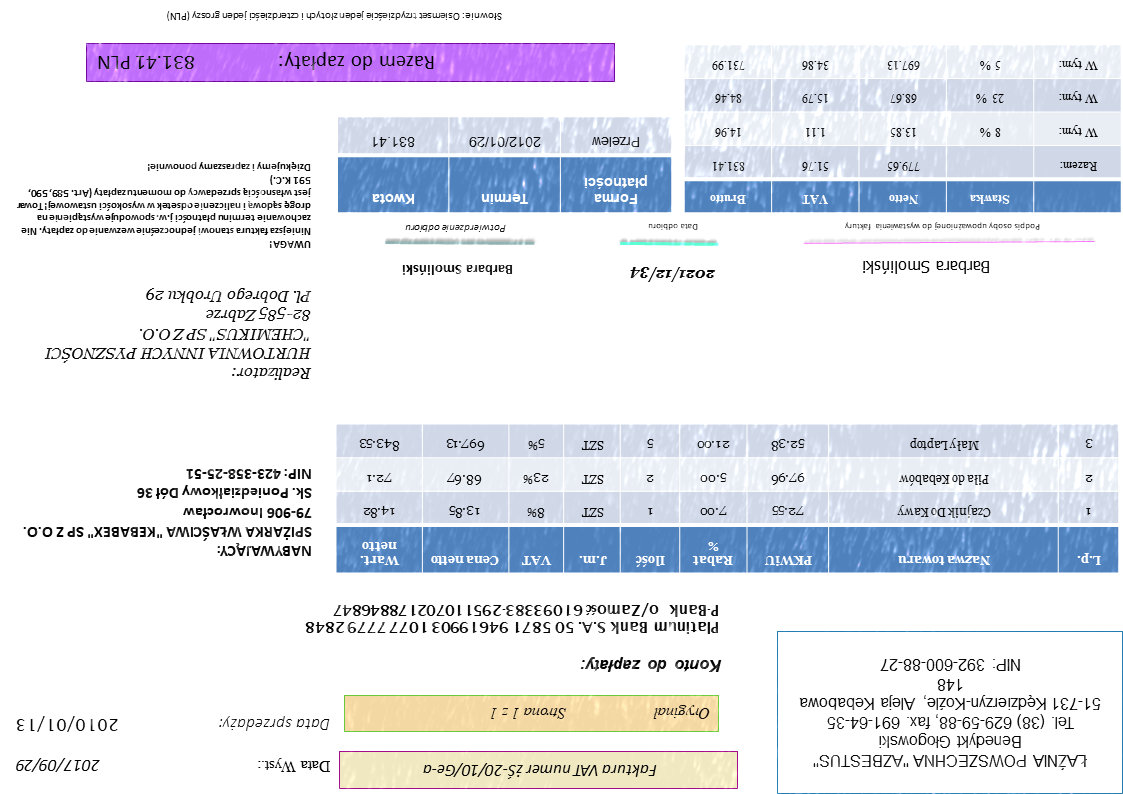Table: (335, 423, 1120, 574), (683, 45, 1122, 214), (336, 115, 673, 215)
TextBox: (797, 655, 1104, 774), (21, 465, 314, 559), (15, 159, 313, 251), (42, 287, 314, 384), (302, 601, 722, 638), (95, 50, 438, 74), (163, 7, 506, 24), (487, 702, 713, 723), (420, 762, 660, 780), (577, 654, 724, 677), (842, 220, 1043, 234), (860, 258, 992, 278), (217, 714, 333, 734), (16, 713, 120, 735), (628, 262, 717, 285), (400, 262, 516, 278), (15, 756, 103, 776), (257, 755, 333, 776), (405, 222, 509, 235), (647, 222, 700, 233)
